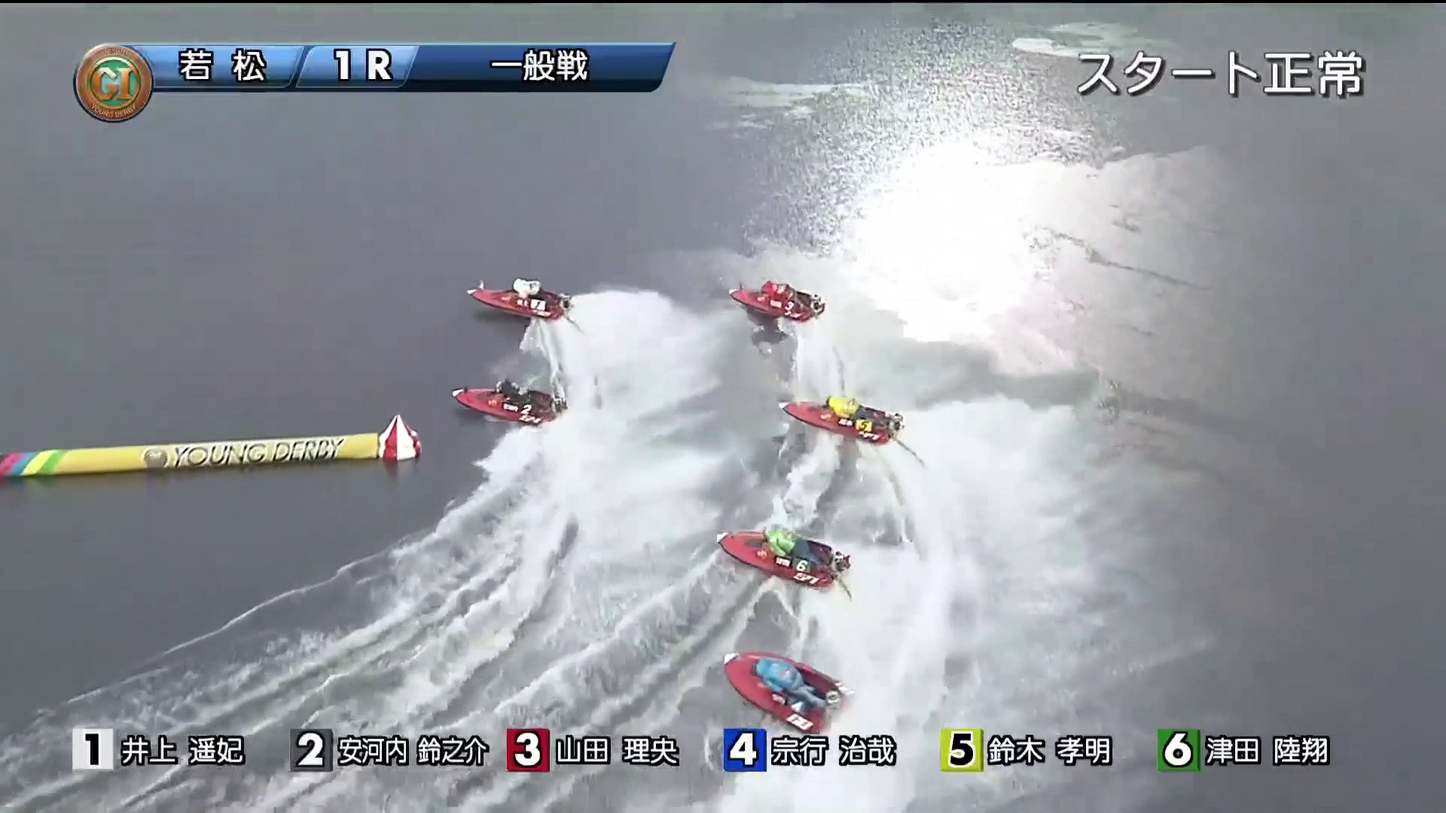１号艇: (475, 288, 545, 341)
２号艇: (434, 372, 563, 432)
３号艇: (723, 278, 821, 324)
４号艇: (711, 526, 845, 591)
５号艇: (725, 662, 849, 718)
６号艇: (780, 372, 880, 453)
